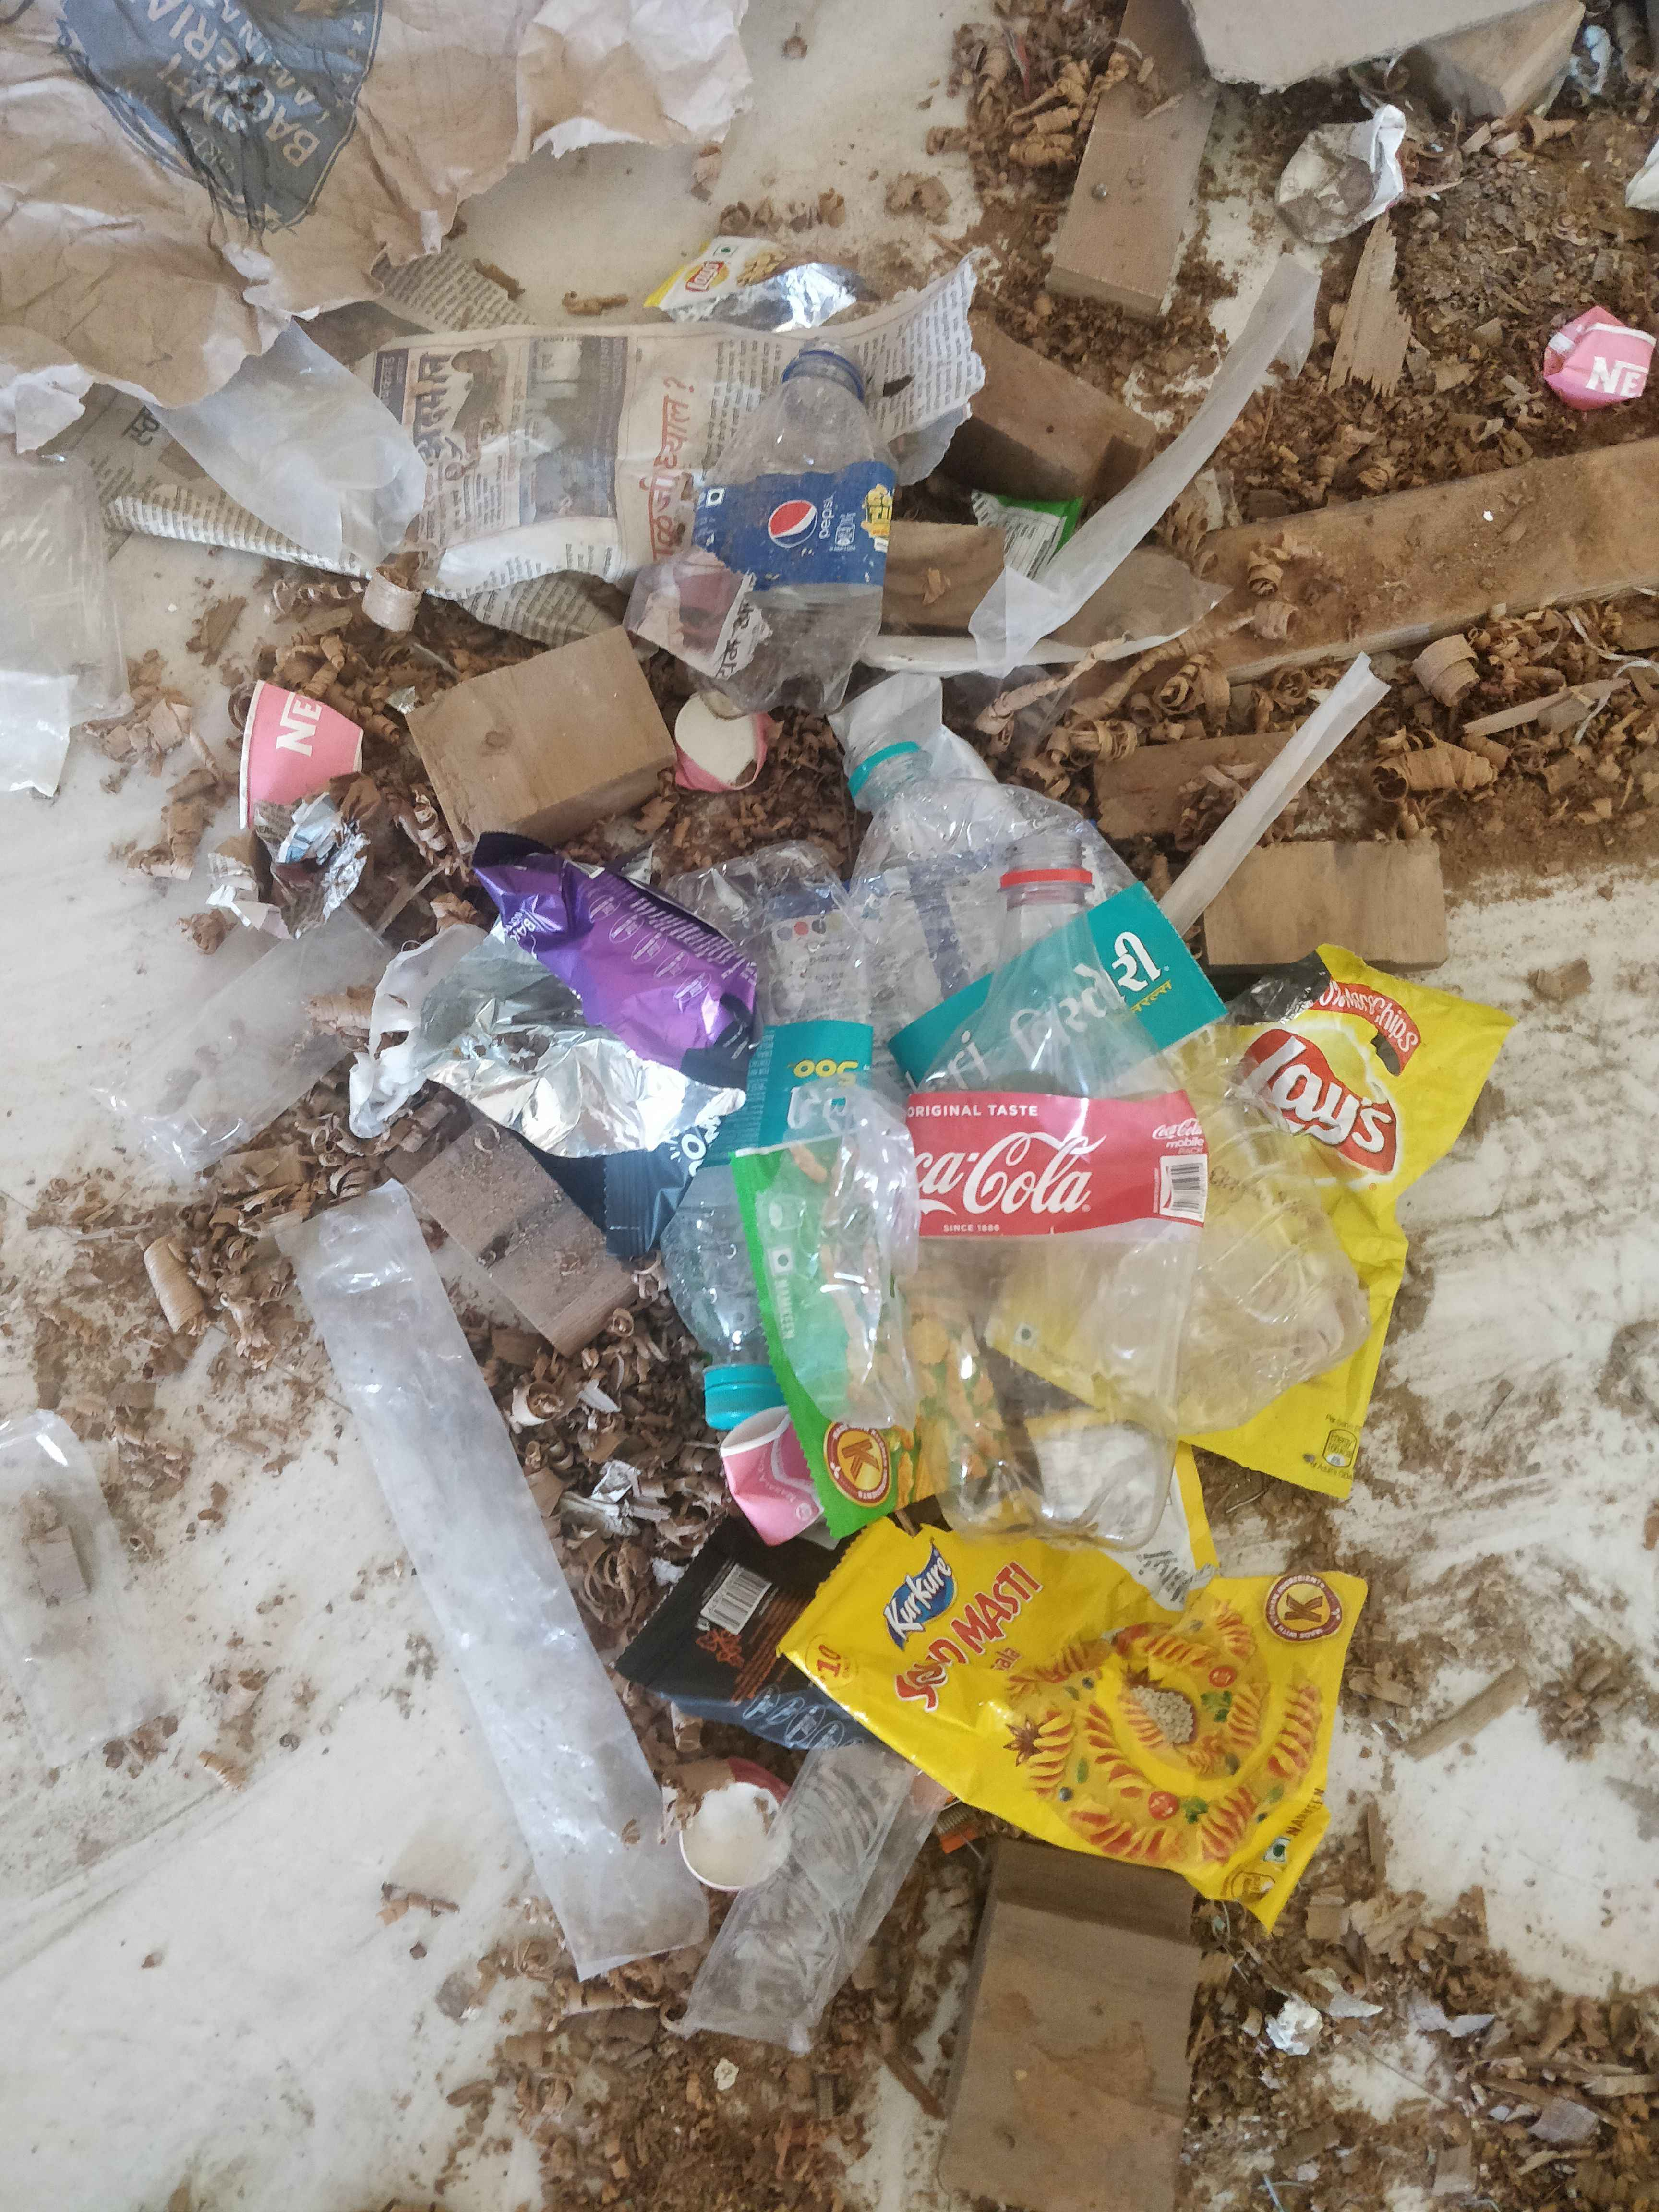Bisleri: (908, 909, 1190, 1087), (713, 1012, 887, 1141)
Coca-Cola: (868, 1087, 1209, 1217)
Lays: (1204, 995, 1425, 1214)
kurkure: (864, 1529, 967, 1663)
pepsi: (723, 486, 901, 570)
